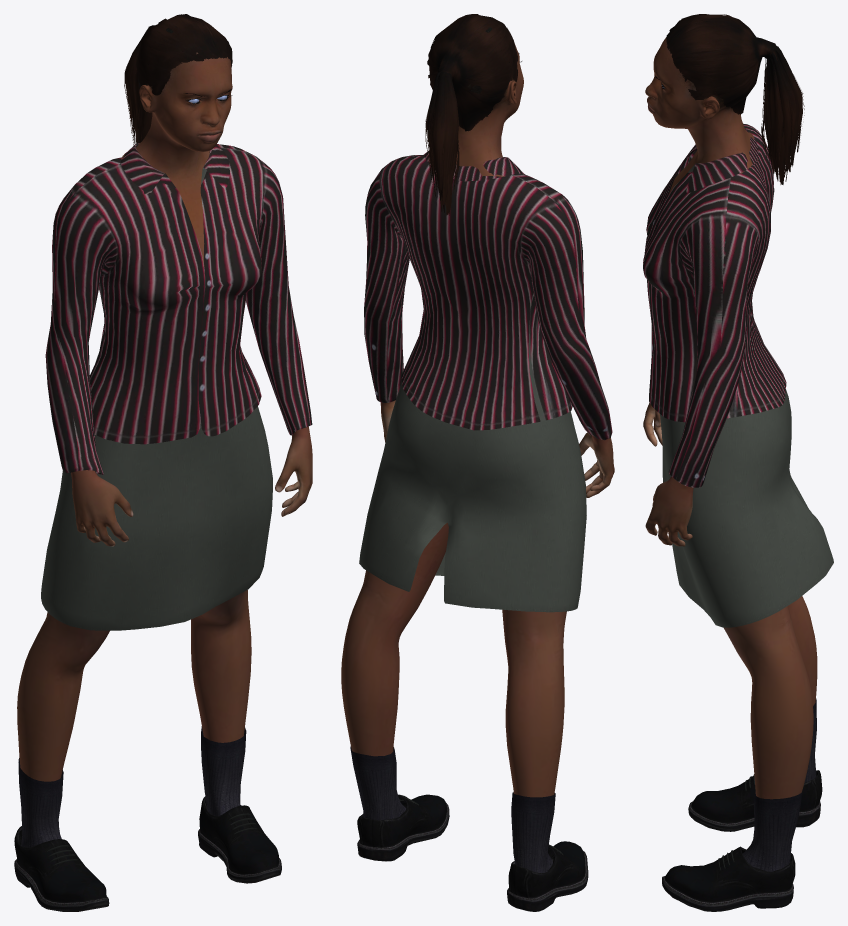
Rendered from amara-visitor.glb.
The picture shows the model from 3 angles, left to right: view 1: azimuth 30°, elevation 25°; view 2: azimuth 150°, elevation 25°; view 3: azimuth 270°, elevation 25°; orthographic projection. The views are drawn at different scales.
Parts seen in each view (by area): view 1: woman_body.female_elegantsuit01, woman_body, woman_body.shoes03, woman_body.ponytail01; view 2: woman_body.female_elegantsuit01, woman_body, woman_body.shoes03, woman_body.ponytail01; view 3: woman_body.female_elegantsuit01, woman_body, woman_body.shoes03, woman_body.ponytail01.
Boxes of the visible parts, x1,y1,x2,y2 form: woman_body.female_elegantsuit01: (41, 143, 312, 630); woman_body: (17, 28, 312, 781); woman_body.shoes03: (14, 726, 281, 911); woman_body.ponytail01: (124, 14, 232, 145); woman_body.female_elegantsuit01: (359, 151, 612, 612); woman_body: (341, 27, 614, 797); woman_body.shoes03: (350, 746, 588, 911); woman_body.ponytail01: (425, 14, 517, 215); woman_body.female_elegantsuit01: (643, 123, 833, 627); woman_body: (643, 37, 817, 799); woman_body.shoes03: (662, 698, 822, 911); woman_body.ponytail01: (666, 14, 804, 184).
Size of the model in its own units: 0.4979 by 1.68 by 0.3401.
8 materials, 8 textured.
